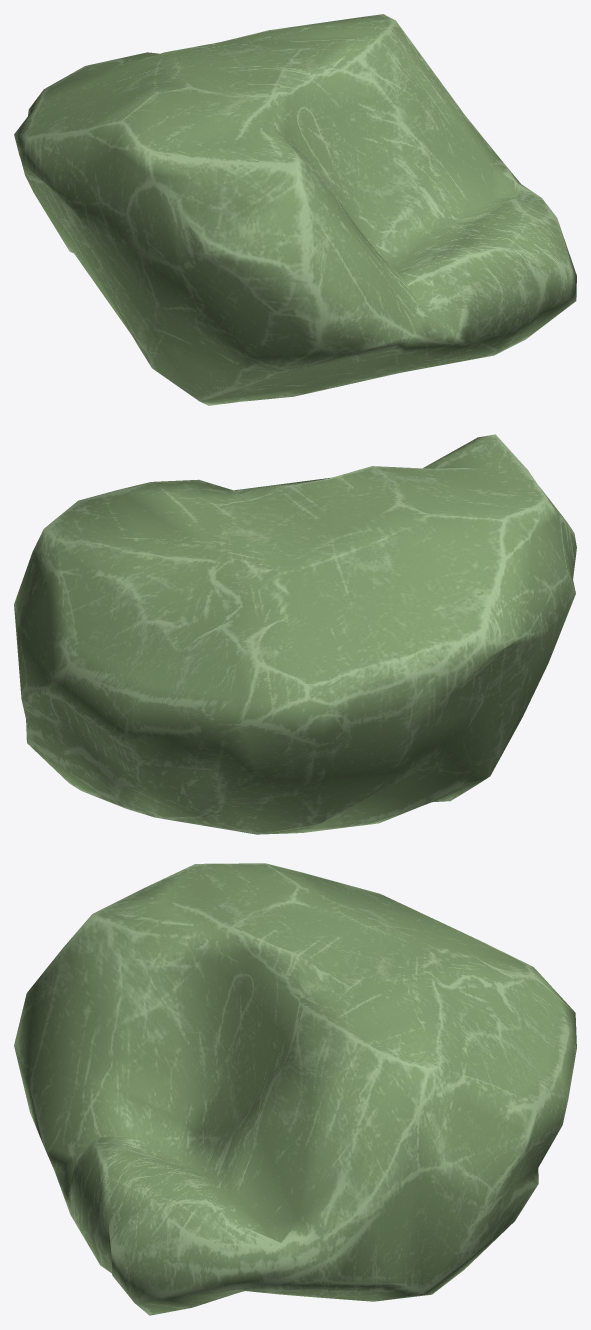
File: r-1-stone.glb
3 views of the same model, one above another, from view 1: azimuth 30°, elevation 25°; view 2: azimuth 150°, elevation 25°; view 3: azimuth 270°, elevation 25° (orthographic). The views are drawn at different scales.
Parts seen in each view (by area): view 1: Small_rock_2_low; view 2: Small_rock_2_low; view 3: Small_rock_2_low.
Boxes of the visible parts, left/top/right/bottom form: Small_rock_2_low: left=14, top=14, right=576, bottom=405; Small_rock_2_low: left=14, top=434, right=576, bottom=834; Small_rock_2_low: left=14, top=863, right=576, bottom=1315.
Size of the model in its own units: 1.96 by 1.21 by 2.
Materials: 1 (1 with a texture image).
